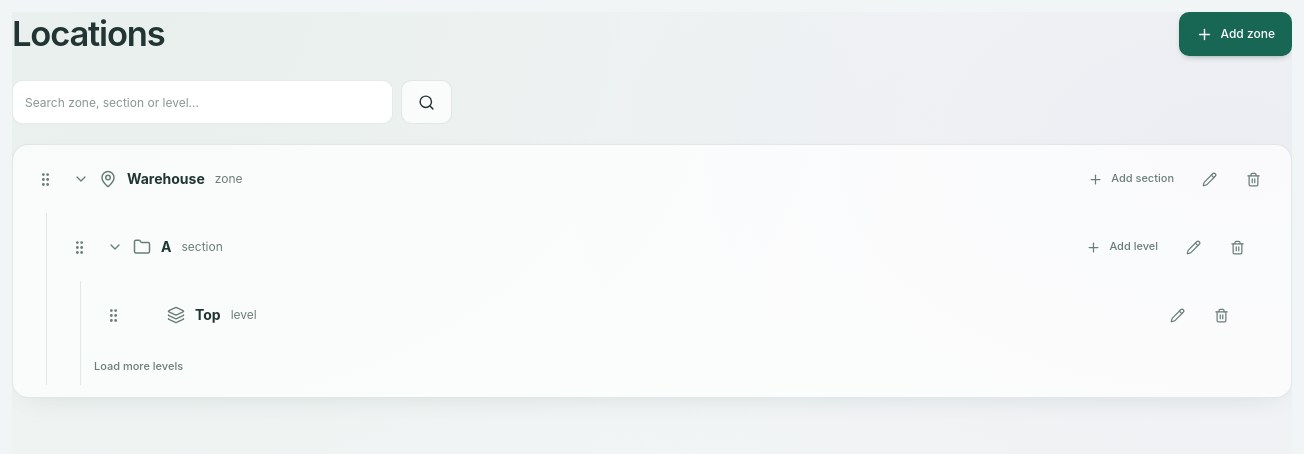
Scenario: loads additional children without dropping the existing branch
Click the button "Load more levels".
click(139, 367)  # box [81,349,196,385]
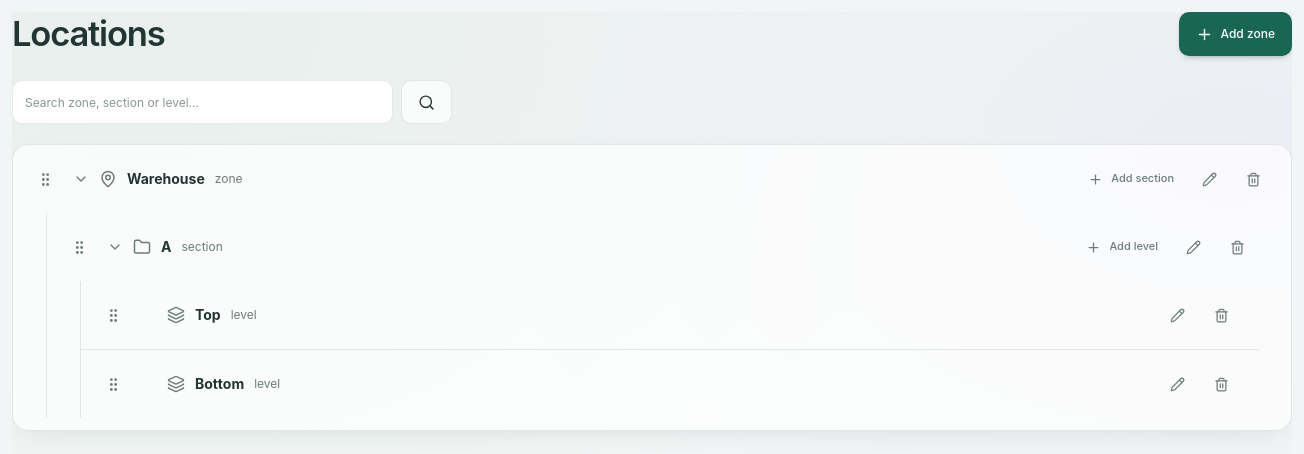
Expected: the text "Top" is shown, [195,304,221,326]
Result: the text "Bottom" is shown at [195,373,244,395]
